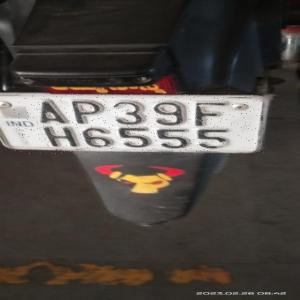Plate: (14, 93, 264, 154)
